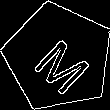M_NE: (24, 23, 93, 91)
